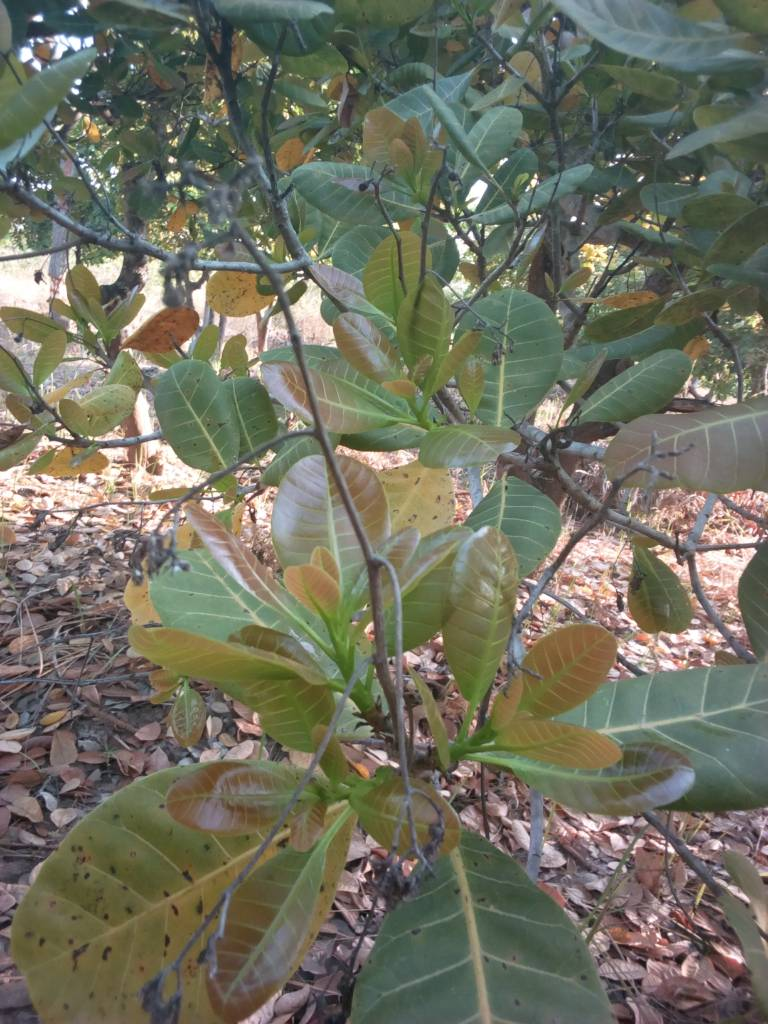Anthracnose: (22, 833, 211, 1021)
